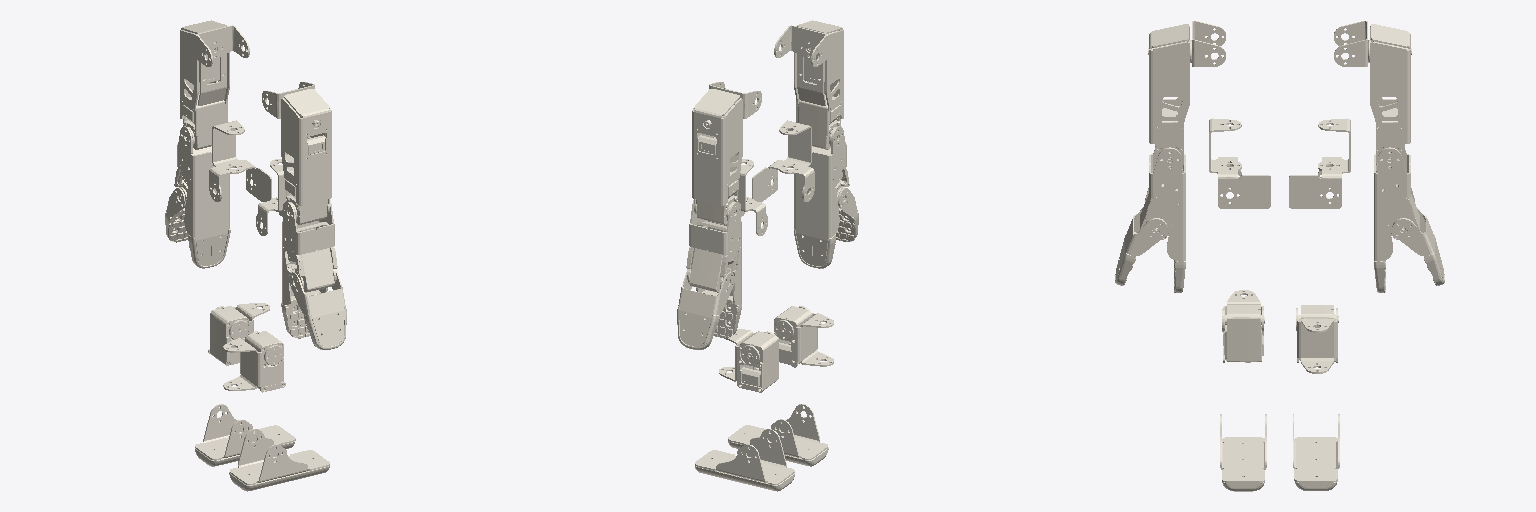
robot.urdf — z-bot2_fe_urdf:
<!--URDF generated from Onshape:
https://cad.onshape.com/documents/f28ce19847c3eb365231071d/w/0aa440ddae524d8892fbb4b4/e/61213ecae58e63e861749fab
with default config example.
-->
<robot name="z-bot2_fe_urdf">
  <link name="base">
    <inertial>
      <origin rpy="0 0 0" xyz="0 0 0" />
      <mass value="0.001" />
      <inertia ixx="0.000001" ixy="0" ixz="0" iyy="0.000001" iyz="0" izz="0.000001" />
    </inertial>
  </link>
  <joint name="floating_base" type="fixed">
    <origin rpy="0 0 1.5707963" xyz="0 0 0" />
    <parent link="base" />
    <child link="Z-BOT2_MASTER-BODY-SKELETON" />
  </joint>
  <link name="Z-BOT2_MASTER-BODY-SKELETON">
    <visual>
      <origin xyz="0 0 0" rpy="0 0 0" />
      <geometry>
        <mesh filename="meshes/Z-BOT2_MASTER-BODY-SKELETON.stl" />
      </geometry>
      <material name="Z-BOT2_MASTER-BODY-SKELETON_material">
        <color rgba="0.95 0.93 0.88 1" />
      </material>
    </visual>
    <collision>
      <origin xyz="0 0 0" rpy="0 0 0" />
      <geometry>
        <mesh filename="meshes/Z-BOT2_MASTER-BODY-SKELETON.stl" />
      </geometry>
    </collision>
    <inertial>
      <mass value="1.5482792056799994" />
      <inertia ixx="0.004795885938585408" iyy="0.005460089672443886" izz="0.0025928493459969493" ixy="7.085490462257129e-06" ixz="9.936366540015334e-06" iyz="-4.086937651942909e-05" />
      <origin xyz="-0.00013450504235282398 0.010200664957977983 -0.031203046640751988" rpy="0 0 0" />
    </inertial>
  </link>
  <joint name="L_Shoulder_Yaw" type="fixed">
    <origin xyz="0.05599502633660092 -0.009609988350796515 -0.00952781042498181" rpy="1.5707963999999994 0.0 -3.1415926071795863" />
    <parent link="Z-BOT2_MASTER-BODY-SKELETON" />
    <child link="Z-BOT2-MASTER-SHOULDER2" />
    <limit effort="80" velocity="5" lower="0" upper="0" />
    <axis xyz="0 0 1" />
  </joint>
  <link name="Z-BOT2-MASTER-SHOULDER2">
    <visual>
      <origin xyz="0 0 0" rpy="0 0 0" />
      <geometry>
        <mesh filename="meshes/Z-BOT2-MASTER-SHOULDER2.stl" />
      </geometry>
      <material name="Z-BOT2-MASTER-SHOULDER2_material">
        <color rgba="0.95 0.93 0.88 1" />
      </material>
    </visual>
    <collision>
      <origin xyz="0 0 0" rpy="0 0 0" />
      <geometry>
        <mesh filename="meshes/Z-BOT2-MASTER-SHOULDER2.stl" />
      </geometry>
    </collision>
    <inertial>
      <mass value="0.0240976" />
      <inertia ixx="7.4193846e-06" iyy="7.798111e-06" izz="2.9824626e-06" ixy="0" ixz="0" iyz="0" />
      <origin xyz="-0.012788045 0.0013741162 0.018800156" rpy="0 0 0" />
    </inertial>
  </link>
  <joint name="R_Shoulder_Yaw" type="fixed">
    <origin xyz="-0.05599497353346345 -0.009609990641140206 -0.009527810424981806" rpy="-1.5707963071795867 0.0 9.282041324443213e-08" />
    <parent link="Z-BOT2_MASTER-BODY-SKELETON" />
    <child link="Z-BOT2-MASTER-SHOULDER2_2" />
    <limit effort="80" velocity="5" lower="0" upper="0" />
    <axis xyz="0 0 1" />
  </joint>
  <link name="Z-BOT2-MASTER-SHOULDER2_2">
    <visual>
      <origin xyz="0 0 0" rpy="0 0 0" />
      <geometry>
        <mesh filename="meshes/Z-BOT2-MASTER-SHOULDER2_2.stl" />
      </geometry>
      <material name="Z-BOT2-MASTER-SHOULDER2_material_2">
        <color rgba="0.95 0.93 0.88 1" />
      </material>
    </visual>
    <collision>
      <origin xyz="0 0 0" rpy="0 0 0" />
      <geometry>
        <mesh filename="meshes/Z-BOT2-MASTER-SHOULDER2_2.stl" />
      </geometry>
    </collision>
    <inertial>
      <mass value="0.0240976" />
      <inertia ixx="7.4193846e-06" iyy="7.798111e-06" izz="2.9824626e-06" ixy="0" ixz="0" iyz="0" />
      <origin xyz="-0.012788045 -0.0013741162 0.018799844" rpy="0 0 0" />
    </inertial>
  </link>
  <joint name="L_Hip_Roll" type="revolute">
    <origin xyz="0.04280822375832449 0.007735076030833816 -0.08441842862429541" rpy="3.1415926071795863 -2.220446049250313e-15 3.1415926071795863" />
    <parent link="Z-BOT2_MASTER-BODY-SKELETON" />
    <child link="U-HIP-L" />
    <limit effort="10" velocity="10" lower="-0.7" upper="0.7" />
    <axis xyz="0 0 1" />
  <dynamics damping="0.0" friction="0.0" /></joint>
  <link name="U-HIP-L">
    <visual>
      <origin xyz="0 0 0" rpy="0 0 0" />
      <geometry>
        <mesh filename="meshes/U-HIP-L.stl" />
      </geometry>
      <material name="U-HIP-L_material">
        <color rgba="0.95 0.93 0.88 1" />
      </material>
    </visual>
    <collision>
      <origin xyz="0 0 0" rpy="0 0 0" />
      <geometry>
        <mesh filename="meshes/U-HIP-L.stl" />
      </geometry>
    </collision>
    <inertial>
      <mass value="0.047132399" />
      <inertia ixx="2.871821e-05" iyy="2.9931549e-05" izz="1.8876006e-05" ixy="4.4096062e-06" ixz="-8.0012699e-06" iyz="3.8359105e-06" />
      <origin xyz="-0.0011606228 -0.0043962041 0.03539619" rpy="0 0 0" />
    </inertial>
  </link>
  <joint name="R_Hip_Roll" type="revolute">
    <origin xyz="-0.04286813624167551 0.007735076030833816 -0.08441842862429541" rpy="3.1415926071795863 -2.220446049250313e-15 3.1415926071795863" />
    <parent link="Z-BOT2_MASTER-BODY-SKELETON" />
    <child link="U-HIP-R" />
    <limit effort="10" velocity="10" lower="-0.7" upper="0.7" />
    <axis xyz="0 0 1" />
  <dynamics damping="0.0" friction="0.0" /></joint>
  <link name="U-HIP-R">
    <visual>
      <origin xyz="0 0 0" rpy="0 0 0" />
      <geometry>
        <mesh filename="meshes/U-HIP-R.stl" />
      </geometry>
      <material name="U-HIP-R_material">
        <color rgba="0.95 0.93 0.88 1" />
      </material>
    </visual>
    <collision>
      <origin xyz="0 0 0" rpy="0 0 0" />
      <geometry>
        <mesh filename="meshes/U-HIP-R.stl" />
      </geometry>
    </collision>
    <inertial>
      <mass value="0.047132399" />
      <inertia ixx="2.871821e-05" iyy="2.9931549e-05" izz="1.8876006e-05" ixy="-4.4096062e-06" ixz="8.0012699e-06" iyz="3.8359105e-06" />
      <origin xyz="0.0011606228 -0.0043962041 0.03539619" rpy="0 0 0" />
    </inertial>
  </link>
  <joint name="L_Shoulder_Pitch" type="fixed">
    <origin xyz="-0.019845 -0.0049 0.0188" rpy="-1.5707963 0 -1.5707963" />
    <parent link="Z-BOT2-MASTER-SHOULDER2" />
    <child link="3215_1Flange" />
    <limit effort="80" velocity="5" lower="0" upper="0" />
    <axis xyz="0 0 1" />
  </joint>
  <link name="3215_1Flange">
    <visual>
      <origin xyz="0 0 0" rpy="0 0 0" />
      <geometry>
        <mesh filename="meshes/3215_1Flange.stl" />
      </geometry>
      <material name="3215_1Flange_material">
        <color rgba="0.95 0.93 0.88 1" />
      </material>
    </visual>
    <collision>
      <origin xyz="0 0 0" rpy="0 0 0" />
      <geometry>
        <mesh filename="meshes/3215_1Flange.stl" />
      </geometry>
    </collision>
    <inertial>
      <mass value="0.181960114" />
      <inertia ixx="5.3899353341064585e-05" iyy="0.00022822195264545652" izz="0.00023184532723853924" ixy="-3.863960913011212e-06" ixz="6.095910283489962e-06" iyz="-1.7453075993634668e-09" />
      <origin xyz="0.033641620470353496 0.0004379900668569523 -0.019963155305665035" rpy="0 0 0" />
    </inertial>
  </link>
  <joint name="R_Shoulder_Pitch" type="fixed">
    <origin xyz="-0.019845 0.0049 0.0188" rpy="1.5707963 0 1.5707963" />
    <parent link="Z-BOT2-MASTER-SHOULDER2_2" />
    <child link="3215_1Flange_2" />
    <limit effort="80" velocity="5" lower="0" upper="0" />
    <axis xyz="0 0 1" />
  </joint>
  <link name="3215_1Flange_2">
    <visual>
      <origin xyz="0 0 0" rpy="0 0 0" />
      <geometry>
        <mesh filename="meshes/3215_1Flange_2.stl" />
      </geometry>
      <material name="3215_1Flange_material_2">
        <color rgba="0.95 0.93 0.88 1" />
      </material>
    </visual>
    <collision>
      <origin xyz="0 0 0" rpy="0 0 0" />
      <geometry>
        <mesh filename="meshes/3215_1Flange_2.stl" />
      </geometry>
    </collision>
    <inertial>
      <mass value="0.181960114" />
      <inertia ixx="5.389763669337584e-05" iyy="0.00022821937594259294" izz="0.00023184619600107801" ixy="3.884943543858963e-06" ixz="6.140742999932222e-06" iyz="-3.129138435194939e-09" />
      <origin xyz="0.0336416206898591 -0.0004325336756545371 -0.019968349743603512" rpy="0 0 0" />
    </inertial>
  </link>
  <joint name="L_Hip_Yaw" type="revolute">
    <origin xyz="0 0.018699662 0.0564" rpy="-1.5707963 0 0" />
    <parent link="U-HIP-L" />
    <child link="3215_BothFlange" />
    <limit effort="10" velocity="10" lower="-0.3" upper="0.157" />
    <axis xyz="0 0 1" />
  <dynamics damping="0.0" friction="0.0" /></joint>
  <link name="3215_BothFlange">
    <visual>
      <origin xyz="0 0 0" rpy="0 0 0" />
      <geometry>
        <mesh filename="meshes/3215_BothFlange.stl" />
      </geometry>
      <material name="3215_BothFlange_material">
        <color rgba="0.95 0.93 0.88 1" />
      </material>
    </visual>
    <collision>
      <origin xyz="0 0 0" rpy="0 0 0" />
      <geometry>
        <mesh filename="meshes/3215_BothFlange.stl" />
      </geometry>
    </collision>
    <inertial>
      <mass value="0.068295303" />
      <inertia ixx="1.92480178585582e-05" iyy="2.3756011900231574e-05" izz="2.520877273673555e-05" ixy="2.7247427049494293e-07" ixz="-2.8732568478511528e-08" iyz="6.109806519994374e-07" />
      <origin xyz="0.012331582350656753 -0.008997121561487848 -0.01850841926961605" rpy="0 0 0" />
    </inertial>
  </link>
  <joint name="R_Hip_Yaw" type="revolute">
    <origin xyz="0 -0.018699662 0.0564" rpy="-1.5707963 0 0" />
    <parent link="U-HIP-R" />
    <child link="3215_BothFlange_2" />
    <limit effort="10" velocity="10" lower="-0.3" upper="0.157" />
    <axis xyz="0 0 -1" />
  <dynamics damping="0.0" friction="0.0" /></joint>
  <link name="3215_BothFlange_2">
    <visual>
      <origin xyz="0 0 0" rpy="0 0 0" />
      <geometry>
        <mesh filename="meshes/3215_BothFlange_2.stl" />
      </geometry>
      <material name="3215_BothFlange_material_2">
        <color rgba="0.95 0.93 0.88 1" />
      </material>
    </visual>
    <collision>
      <origin xyz="0 0 0" rpy="0 0 0" />
      <geometry>
        <mesh filename="meshes/3215_BothFlange_2.stl" />
      </geometry>
    </collision>
    <inertial>
      <mass value="0.068295303" />
      <inertia ixx="1.9232533293806157e-05" iyy="2.3723531782683626e-05" izz="2.5225768243389677e-05" ixy="-2.7287359774899217e-07" ixz="2.0232932124241593e-08" iyz="4.3087197555192737e-07" />
      <origin xyz="-0.01233158197032713 -0.008983281502911857 0.017811062898534107" rpy="0 0 0" />
    </inertial>
  </link>
  <joint name="L_Hip_Pitch" type="revolute">
    <origin xyz="-0.007399653999999995 -0.032 -0.017899999999999996" rpy="1.5707963 0.0 -1.5707963" />
    <parent link="3215_BothFlange" />
    <child link="3215_BothFlange_3" />
    <limit effort="10" velocity="10" lower="-1.54" upper="1.0" />
    <axis xyz="0 0 1" />
  <dynamics damping="0.0" friction="0.0" /></joint>
  <link name="3215_BothFlange_3">
    <visual>
      <origin xyz="0 0 0" rpy="0 0 0" />
      <geometry>
        <mesh filename="meshes/3215_BothFlange_3.stl" />
      </geometry>
      <material name="3215_BothFlange_material_3">
        <color rgba="0.95 0.93 0.88 1" />
      </material>
    </visual>
    <collision>
      <origin xyz="0 0 0" rpy="0 0 0" />
      <geometry>
        <mesh filename="meshes/3215_BothFlange_3.stl" />
      </geometry>
    </collision>
    <inertial>
      <mass value="0.14333659199999998" />
      <inertia ixx="4.878675726862223e-05" iyy="0.00014813238577565966" izz="0.00012751812605570905" ixy="2.743517501477886e-06" ixz="2.1979120901787534e-06" iyz="-1.936140035432996e-07" />
      <origin xyz="0.04366219515177414 -0.0028568393111346596 -0.01852507842244729" rpy="0 0 0" />
    </inertial>
  </link>
  <joint name="R_Hip_Pitch" type="revolute">
    <origin xyz="0.007399655009421977 -0.03199999927137579 0.0188997194" rpy="-1.5707963 0.0 -1.5707963071795867" />
    <parent link="3215_BothFlange_2" />
    <child link="3215_BothFlange_4" />
    <limit effort="10" velocity="10" lower="-1.0" upper="1.54" />
    <axis xyz="0 0 1" />
  <dynamics damping="0.0" friction="0.0" /></joint>
  <link name="3215_BothFlange_4">
    <visual>
      <origin xyz="0 0 0" rpy="0 0 0" />
      <geometry>
        <mesh filename="meshes/3215_BothFlange_4.stl" />
      </geometry>
      <material name="3215_BothFlange_material_4">
        <color rgba="0.95 0.93 0.88 1" />
      </material>
    </visual>
    <collision>
      <origin xyz="0 0 0" rpy="0 0 0" />
      <geometry>
        <mesh filename="meshes/3215_BothFlange_4.stl" />
      </geometry>
    </collision>
    <inertial>
      <mass value="0.14333659199999998" />
      <inertia ixx="4.878224114486772e-05" iyy="0.00014813327992273823" izz="0.0001275127225175327" ixy="-2.713504067342946e-06" ixz="2.18600051154369e-06" iyz="1.9209773639879587e-07" />
      <origin xyz="0.04366219628683341 0.002863433704770057 -0.01853663820790603" rpy="0 0 0" />
    </inertial>
  </link>
  <joint name="L_Elbow_Yaw" type="fixed">
    <origin xyz="0.09298379430410703 0.018799717128502175 -0.018600374924981792" rpy="1.5707963000000005 2.220446049250313e-16 3.1415926" />
    <parent link="3215_1Flange" />
    <child link="R-ARM-MIRROR-1" />
    <limit effort="80" velocity="5" lower="0" upper="0" />
    <axis xyz="0 0 -1" />
  </joint>
  <link name="R-ARM-MIRROR-1">
    <visual>
      <origin xyz="0 0 0" rpy="0 0 0" />
      <geometry>
        <mesh filename="meshes/R-ARM-MIRROR-1.stl" />
      </geometry>
      <material name="R-ARM-MIRROR-1_material">
        <color rgba="0.95 0.93 0.88 1" />
      </material>
    </visual>
    <collision>
      <origin xyz="0 0 0" rpy="0 0 0" />
      <geometry>
        <mesh filename="meshes/R-ARM-MIRROR-1.stl" />
      </geometry>
    </collision>
    <inertial>
      <mass value="0.186072694" />
      <inertia ixx="6.0567719416328625e-05" iyy="0.0002183379644806765" izz="0.00020130160387532152" ixy="2.0547267238849788e-05" ixz="5.718114821194625e-08" iyz="1.9311961604242037e-06" />
      <origin xyz="-0.05111908248915886 0.0011495472657406843 -0.01774252869902593" rpy="0 0 0" />
    </inertial>
  </link>
  <joint name="R_Elbow_Yaw" type="fixed">
    <origin xyz="0.09298379437380097 -0.018799718976802476 -0.018600374222947996" rpy="-1.570796346410206 -1.5707963071795867 0.0" />
    <parent link="3215_1Flange_2" />
    <child link="L-ARM-MIRROR_1" />
    <limit effort="80" velocity="5" lower="0" upper="0" />
    <axis xyz="0 0 1" />
  </joint>
  <link name="L-ARM-MIRROR_1">
    <visual>
      <origin xyz="0 0 0" rpy="0 0 0" />
      <geometry>
        <mesh filename="meshes/L-ARM-MIRROR_1.stl" />
      </geometry>
      <material name="L-ARM-MIRROR_1_material">
        <color rgba="0.95 0.93 0.88 1" />
      </material>
    </visual>
    <collision>
      <origin xyz="0 0 0" rpy="0 0 0" />
      <geometry>
        <mesh filename="meshes/L-ARM-MIRROR_1.stl" />
      </geometry>
    </collision>
    <inertial>
      <mass value="0.186073123" />
      <inertia ixx="0.0002184697496067428" iyy="6.058853370405641e-05" izz="0.00020144144950757522" ixy="-2.0548764534903407e-05" ixz="-1.9759136575251413e-06" iyz="-3.077329627005033e-07" />
      <origin xyz="0.0011442767311520062 0.05112332206403472 0.017764173476155855" rpy="0 0 0" />
    </inertial>
  </link>
  <joint name="L_Knee_Pitch" type="revolute">
    <origin xyz="0.10000000066047848 0.009999997542907974 -0.0002597236558159702" rpy="4.641020790984154e-08 4.641020678874952e-08 2.6469779601696886e-23" />
    <parent link="3215_BothFlange_3" />
    <child link="3215_BothFlange_5" />
    <limit effort="10" velocity="10" lower="0" upper="1.57" />
    <axis xyz="0 0 1" />
  <dynamics damping="0.0" friction="0.0" /></joint>
  <link name="3215_BothFlange_5">
    <visual>
      <origin xyz="0 0 0" rpy="0 0 0" />
      <geometry>
        <mesh filename="meshes/3215_BothFlange_5.stl" />
      </geometry>
      <material name="3215_BothFlange_material_5">
        <color rgba="0.95 0.93 0.88 1" />
      </material>
    </visual>
    <collision>
      <origin xyz="0 0 0" rpy="0 0 0" />
      <geometry>
        <mesh filename="meshes/3215_BothFlange_5.stl" />
      </geometry>
    </collision>
    <inertial>
      <mass value="0.128212813" />
      <inertia ixx="3.5366097481058646e-05" iyy="0.00015438577386624072" izz="0.00014540726360808898" ixy="3.600108456066646e-08" ixz="2.666301254666052e-07" iyz="-9.509928463704331e-11" />
      <origin xyz="0.04999996359240914 2.603264630336198e-09 -0.017988356190372052" rpy="0 0 0" />
    </inertial>
  </link>
  <joint name="R_Knee_Pitch" type="revolute">
    <origin xyz="0.10000000042471463 -0.00999999754290798 -0.00025971514418403357" rpy="4.641020790984154e-08 -4.641020678874952e-08 -2.6469779601696886e-23" />
    <parent link="3215_BothFlange_4" />
    <child link="3215_BothFlange_6" />
    <limit effort="10" velocity="10" lower="-1.57" upper="0" />
    <axis xyz="0 0 1" />
  <dynamics damping="0.0" friction="0.0" /></joint>
  <link name="3215_BothFlange_6">
    <visual>
      <origin xyz="0 0 0" rpy="0 0 0" />
      <geometry>
        <mesh filename="meshes/3215_BothFlange_6.stl" />
      </geometry>
      <material name="3215_BothFlange_material_6">
        <color rgba="0.95 0.93 0.88 1" />
      </material>
    </visual>
    <collision>
      <origin xyz="0 0 0" rpy="0 0 0" />
      <geometry>
        <mesh filename="meshes/3215_BothFlange_6.stl" />
      </geometry>
    </collision>
    <inertial>
      <mass value="0.128212813" />
      <inertia ixx="3.552398378904618e-05" iyy="0.00015454366017422747" izz="0.0001454072636080885" ixy="3.600100006183979e-08" ixz="-5.963491681375583e-12" iyz="9.316785758448494e-14" />
      <origin xyz="0.04999996365469782 2.881207080536801e-09 -0.017888312014853906" rpy="0 0 0" />
    </inertial>
  </link>
  <joint name="L_Gripper" type="fixed">
    <origin xyz="-0.06620574753840905 -0.011778206850776778 0.00025971726760990604" rpy="3.141592609978465 1.5873225178708594e-08 1.9198622000000003" />
    <parent link="R-ARM-MIRROR-1" />
    <child link="FINGER_1" />
    <limit effort="80" velocity="5" lower="0" upper="0" />
    <axis xyz="0 0 1" />
  </joint>
  <link name="FINGER_1">
    <visual>
      <origin xyz="0 0 0" rpy="0 0 0" />
      <geometry>
        <mesh filename="meshes/FINGER_1.stl" />
      </geometry>
      <material name="FINGER_1_material">
        <color rgba="0.95 0.93 0.88 1" />
      </material>
    </visual>
    <collision>
      <origin xyz="0 0 0" rpy="0 0 0" />
      <geometry>
        <mesh filename="meshes/FINGER_1.stl" />
      </geometry>
    </collision>
    <inertial>
      <mass value="0.044317970000000005" />
      <inertia ixx="2.3213880668240897e-05" iyy="1.0191884814170426e-05" izz="1.6289943280670787e-05" ixy="-2.476923971395067e-06" ixz="-6.215307804413495e-13" iyz="-4.938339035345441e-11" />
      <origin xyz="-0.01067089257609412 -0.02898474955328322 0.018799794869921917" rpy="0 0 0" />
    </inertial>
  </link>
  <joint name="R_Gripper" type="fixed">
    <origin xyz="-0.011778204959700955 0.06620574806126743 -0.00025971899999999853" rpy="0.0 0.0 0.3490658" />
    <parent link="L-ARM-MIRROR_1" />
    <child link="FINGER_1_2" />
    <limit effort="80" velocity="5" lower="0" upper="0" />
    <axis xyz="0 0 1" />
  </joint>
  <link name="FINGER_1_2">
    <visual>
      <origin xyz="0 0 0" rpy="0 0 0" />
      <geometry>
        <mesh filename="meshes/FINGER_1_2.stl" />
      </geometry>
      <material name="FINGER_1_material_2">
        <color rgba="0.95 0.93 0.88 1" />
      </material>
    </visual>
    <collision>
      <origin xyz="0 0 0" rpy="0 0 0" />
      <geometry>
        <mesh filename="meshes/FINGER_1_2.stl" />
      </geometry>
    </collision>
    <inertial>
      <mass value="0.044317970000000005" />
      <inertia ixx="2.32138806540555e-05" iyy="1.0191884812233272e-05" izz="1.628994326455023e-05" ixy="2.476923890246143e-06" ixz="5.575491824133256e-13" iyz="-4.934950914465001e-11" />
      <origin xyz="-0.010670892444550918 0.02898474954177468 0.018799479084134273" rpy="0 0 0" />
    </inertial>
  </link>
  <joint name="L_Ankle_Pitch" type="revolute">
    <origin xyz="0.09999999987006428 3.364079596487879e-09 -0.0001999952684794198" rpy="-3.141592653589792 4.641020900919557e-08 1.5707964071795835" />
    <parent link="3215_BothFlange_5" />
    <child link="FOOT" />
    <limit effort="10" velocity="10" lower="-0.9" upper="0.9" />
    <axis xyz="0 0 1" />
  <dynamics damping="0.0" friction="0.01" /></joint>
  <link name="FOOT">
    <visual>
      <origin xyz="0 0 0" rpy="0 0 0" />
      <geometry>
        <mesh filename="meshes/FOOT.stl" />
      </geometry>
      <material name="FOOT_material">
        <color rgba="0.95 0.93 0.88 1" />
      </material>
    </visual>
    <collision>
      <origin xyz="0 0 0" rpy="0 0 0" />
      <geometry>
        <mesh filename="meshes/FOOT.stl" />
      </geometry>
    </collision>
    <inertial>
      <mass value="0.27814003" />
      <inertia ixx="4.494275498886861e-05" iyy="0.00020526784219643997" izz="0.00018187119318530804" ixy="4.668990035178566e-06" ixz="-2.8062672075965645e-12" iyz="-9.572651957744206e-13" />
      <origin xyz="-0.015077854176055176 0.027835259225792868 0.018700000506988616" rpy="0 0 0" />
    </inertial>
  </link>
  <joint name="R_Ankle_Pitch" type="revolute">
    <origin xyz="0.09999999987006428 3.364079596487879e-09 4.731520579850934e-09" rpy="-3.141592560769378 -4.6410206566704915e-08 -1.5707963000000027" />
    <parent link="3215_BothFlange_6" />
    <child link="FOOT_2" />
    <limit effort="10" velocity="10" lower="-0.9" upper="0.9" />
    <axis xyz="0 0 1" />
  <dynamics damping="0.0" friction="0.01" /></joint>
  <link name="FOOT_2">
    <visual>
      <origin xyz="0 0 0" rpy="0 0 0" />
      <geometry>
        <mesh filename="meshes/FOOT_2.stl" />
      </geometry>
      <material name="FOOT_material_2">
        <color rgba="0.95 0.93 0.88 1" />
      </material>
    </visual>
    <collision>
      <origin xyz="0 0 0" rpy="0 0 0" />
      <geometry>
        <mesh filename="meshes/FOOT_2.stl" />
      </geometry>
    </collision>
    <inertial>
      <mass value="0.27814003" />
      <inertia ixx="4.4942753119734386e-05" iyy="0.0002052678421055485" izz="0.0001818711912252823" ixy="-4.668996916793466e-06" ixz="2.8062672299978272e-12" iyz="-9.572648319183004e-13" />
      <origin xyz="-0.015077853990476281 -0.027835257754536755 0.018699999493011384" rpy="0 0 0" />
    </inertial>
  </link>
</robot>

--- What the picture shows (computed from the rendered views, not written in the file) ---
The picture shows the robot from 3 angles, left to right: view 1: azimuth 30°, elevation 25°; view 2: azimuth 150°, elevation 25°; view 3: azimuth 270°, elevation 25°; orthographic projection.
Model z-bot2_fe_urdf with 20 links and 19 joints (10 revolute, 9 fixed), rooted at base, posed every joint at zero.
Links seen in each view (by area): view 1: 3215_1Flange_2, R-ARM-MIRROR-1, L-ARM-MIRROR_1, 3215_1Flange, FOOT_2, 3215_BothFlange_6, FOOT, FINGER_1_2, U-HIP-L, 3215_BothFlange_5, Z-BOT2-MASTER-SHOULDER2, FINGER_1 (+2 smaller); view 2: 3215_1Flange, L-ARM-MIRROR_1, R-ARM-MIRROR-1, 3215_1Flange_2, FOOT, FOOT_2, 3215_BothFlange_5, 3215_BothFlange_6, FINGER_1, U-HIP-R, Z-BOT2-MASTER-SHOULDER2_2, FINGER_1_2 (+2 smaller); view 3: 3215_1Flange, 3215_1Flange_2, R-ARM-MIRROR-1, L-ARM-MIRROR_1, 3215_BothFlange_6, U-HIP-L, U-HIP-R, 3215_BothFlange_5, FOOT_2, FOOT, FINGER_1_2, FINGER_1 (+2 smaller).
Boxes of the visible links, x1,y1,x2,y2 form: 3215_1Flange_2: (281, 89, 331, 224); R-ARM-MIRROR-1: (174, 126, 230, 268); L-ARM-MIRROR_1: (281, 200, 337, 338); 3215_1Flange: (180, 20, 229, 149); FOOT_2: (229, 429, 329, 491); 3215_BothFlange_6: (223, 331, 285, 392); FOOT: (195, 404, 295, 466); FINGER_1_2: (289, 269, 346, 349); U-HIP-L: (209, 120, 271, 201); 3215_BothFlange_5: (208, 303, 269, 365); Z-BOT2-MASTER-SHOULDER2: (197, 25, 249, 66); FINGER_1: (165, 188, 188, 242); 3215_1Flange: (692, 89, 742, 224); L-ARM-MIRROR_1: (794, 126, 849, 268); R-ARM-MIRROR-1: (686, 200, 741, 337); 3215_1Flange_2: (794, 20, 843, 149); FOOT: (695, 429, 794, 491); FOOT_2: (728, 404, 828, 466); 3215_BothFlange_5: (719, 329, 778, 392); 3215_BothFlange_6: (774, 306, 833, 367); FINGER_1: (677, 269, 734, 349); U-HIP-R: (752, 120, 814, 201); Z-BOT2-MASTER-SHOULDER2_2: (774, 25, 826, 66); FINGER_1_2: (836, 188, 858, 241); 3215_1Flange: (1368, 24, 1411, 167); 3215_1Flange_2: (1148, 24, 1191, 167); R-ARM-MIRROR-1: (1374, 146, 1419, 292); L-ARM-MIRROR_1: (1140, 146, 1185, 292); 3215_BothFlange_6: (1222, 290, 1264, 362); U-HIP-L: (1289, 118, 1350, 208); U-HIP-R: (1209, 118, 1270, 208); 3215_BothFlange_5: (1296, 305, 1338, 373); FOOT_2: (1220, 414, 1266, 491); FOOT: (1293, 414, 1339, 490); FINGER_1_2: (1115, 208, 1167, 285); FINGER_1: (1392, 208, 1444, 285).
Bounding box of the posed robot: 0.1029 × 0.2827 × 0.4139 m (x, y, z).
14 mesh visuals loaded from 19 distinct referenced files (14 binary STL); not drawn: 5 (reference not matched to a file when rendering).